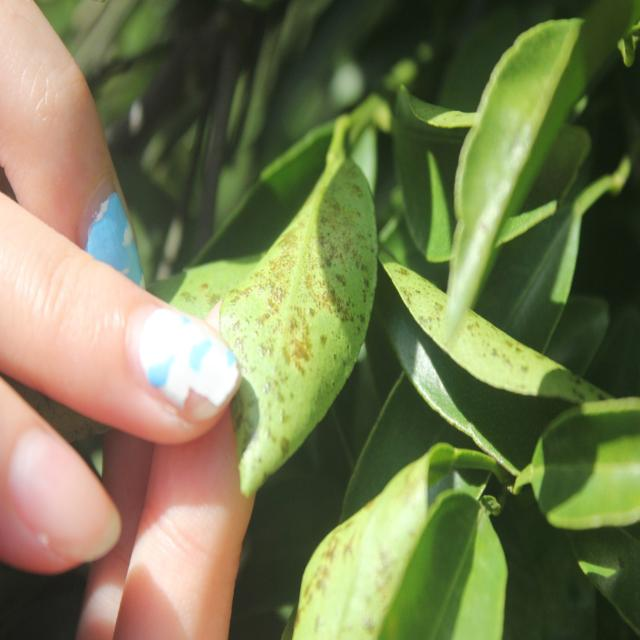melanose: (214, 164, 388, 486), (282, 436, 458, 640), (386, 263, 600, 416)
